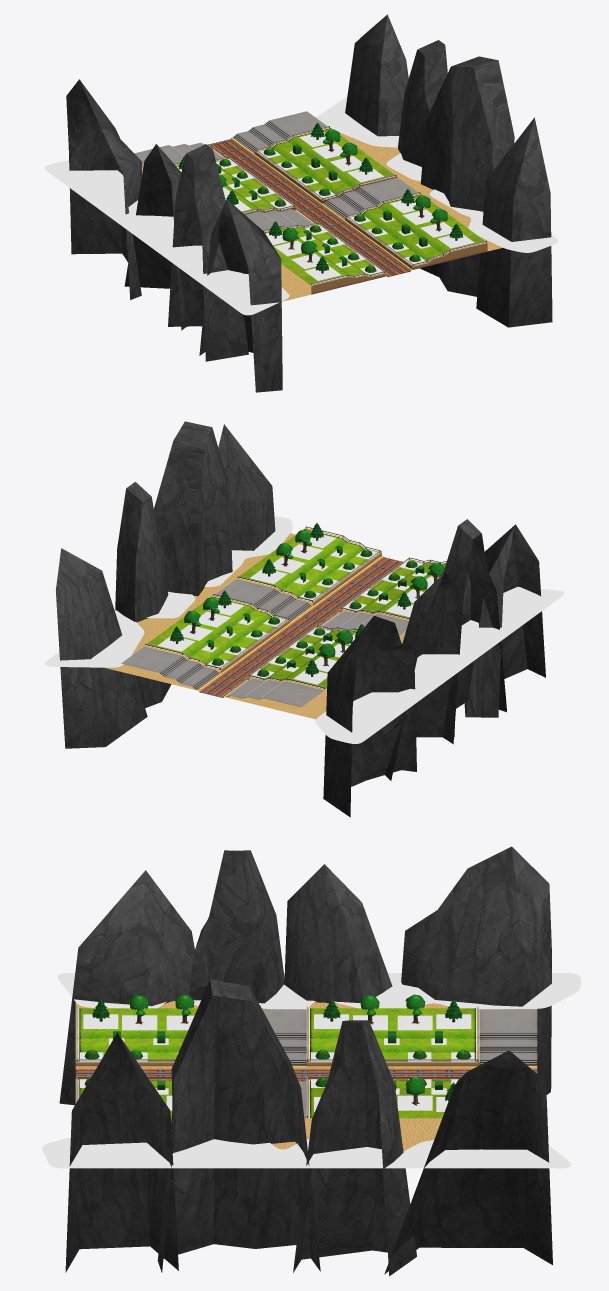
File: Egypt_04.fbx
The picture shows the model from 3 angles, top to bottom: view 1: azimuth 30°, elevation 25°; view 2: azimuth 150°, elevation 25°; view 3: azimuth 270°, elevation 25°; orthographic projection. The views are drawn at different scales.
Parts seen in each view (by area): view 1: Egypt_04; view 2: Egypt_04; view 3: Egypt_04.
Boxes of the visible parts, box(x1,y1,x2,y2) form: Egypt_04: box(44, 14, 558, 392); Egypt_04: box(44, 421, 564, 817); Egypt_04: box(42, 846, 580, 1276).
Size of the model in its own units: 22617 by 13384 by 25170.
Materials: 10 (10 with a texture image).
